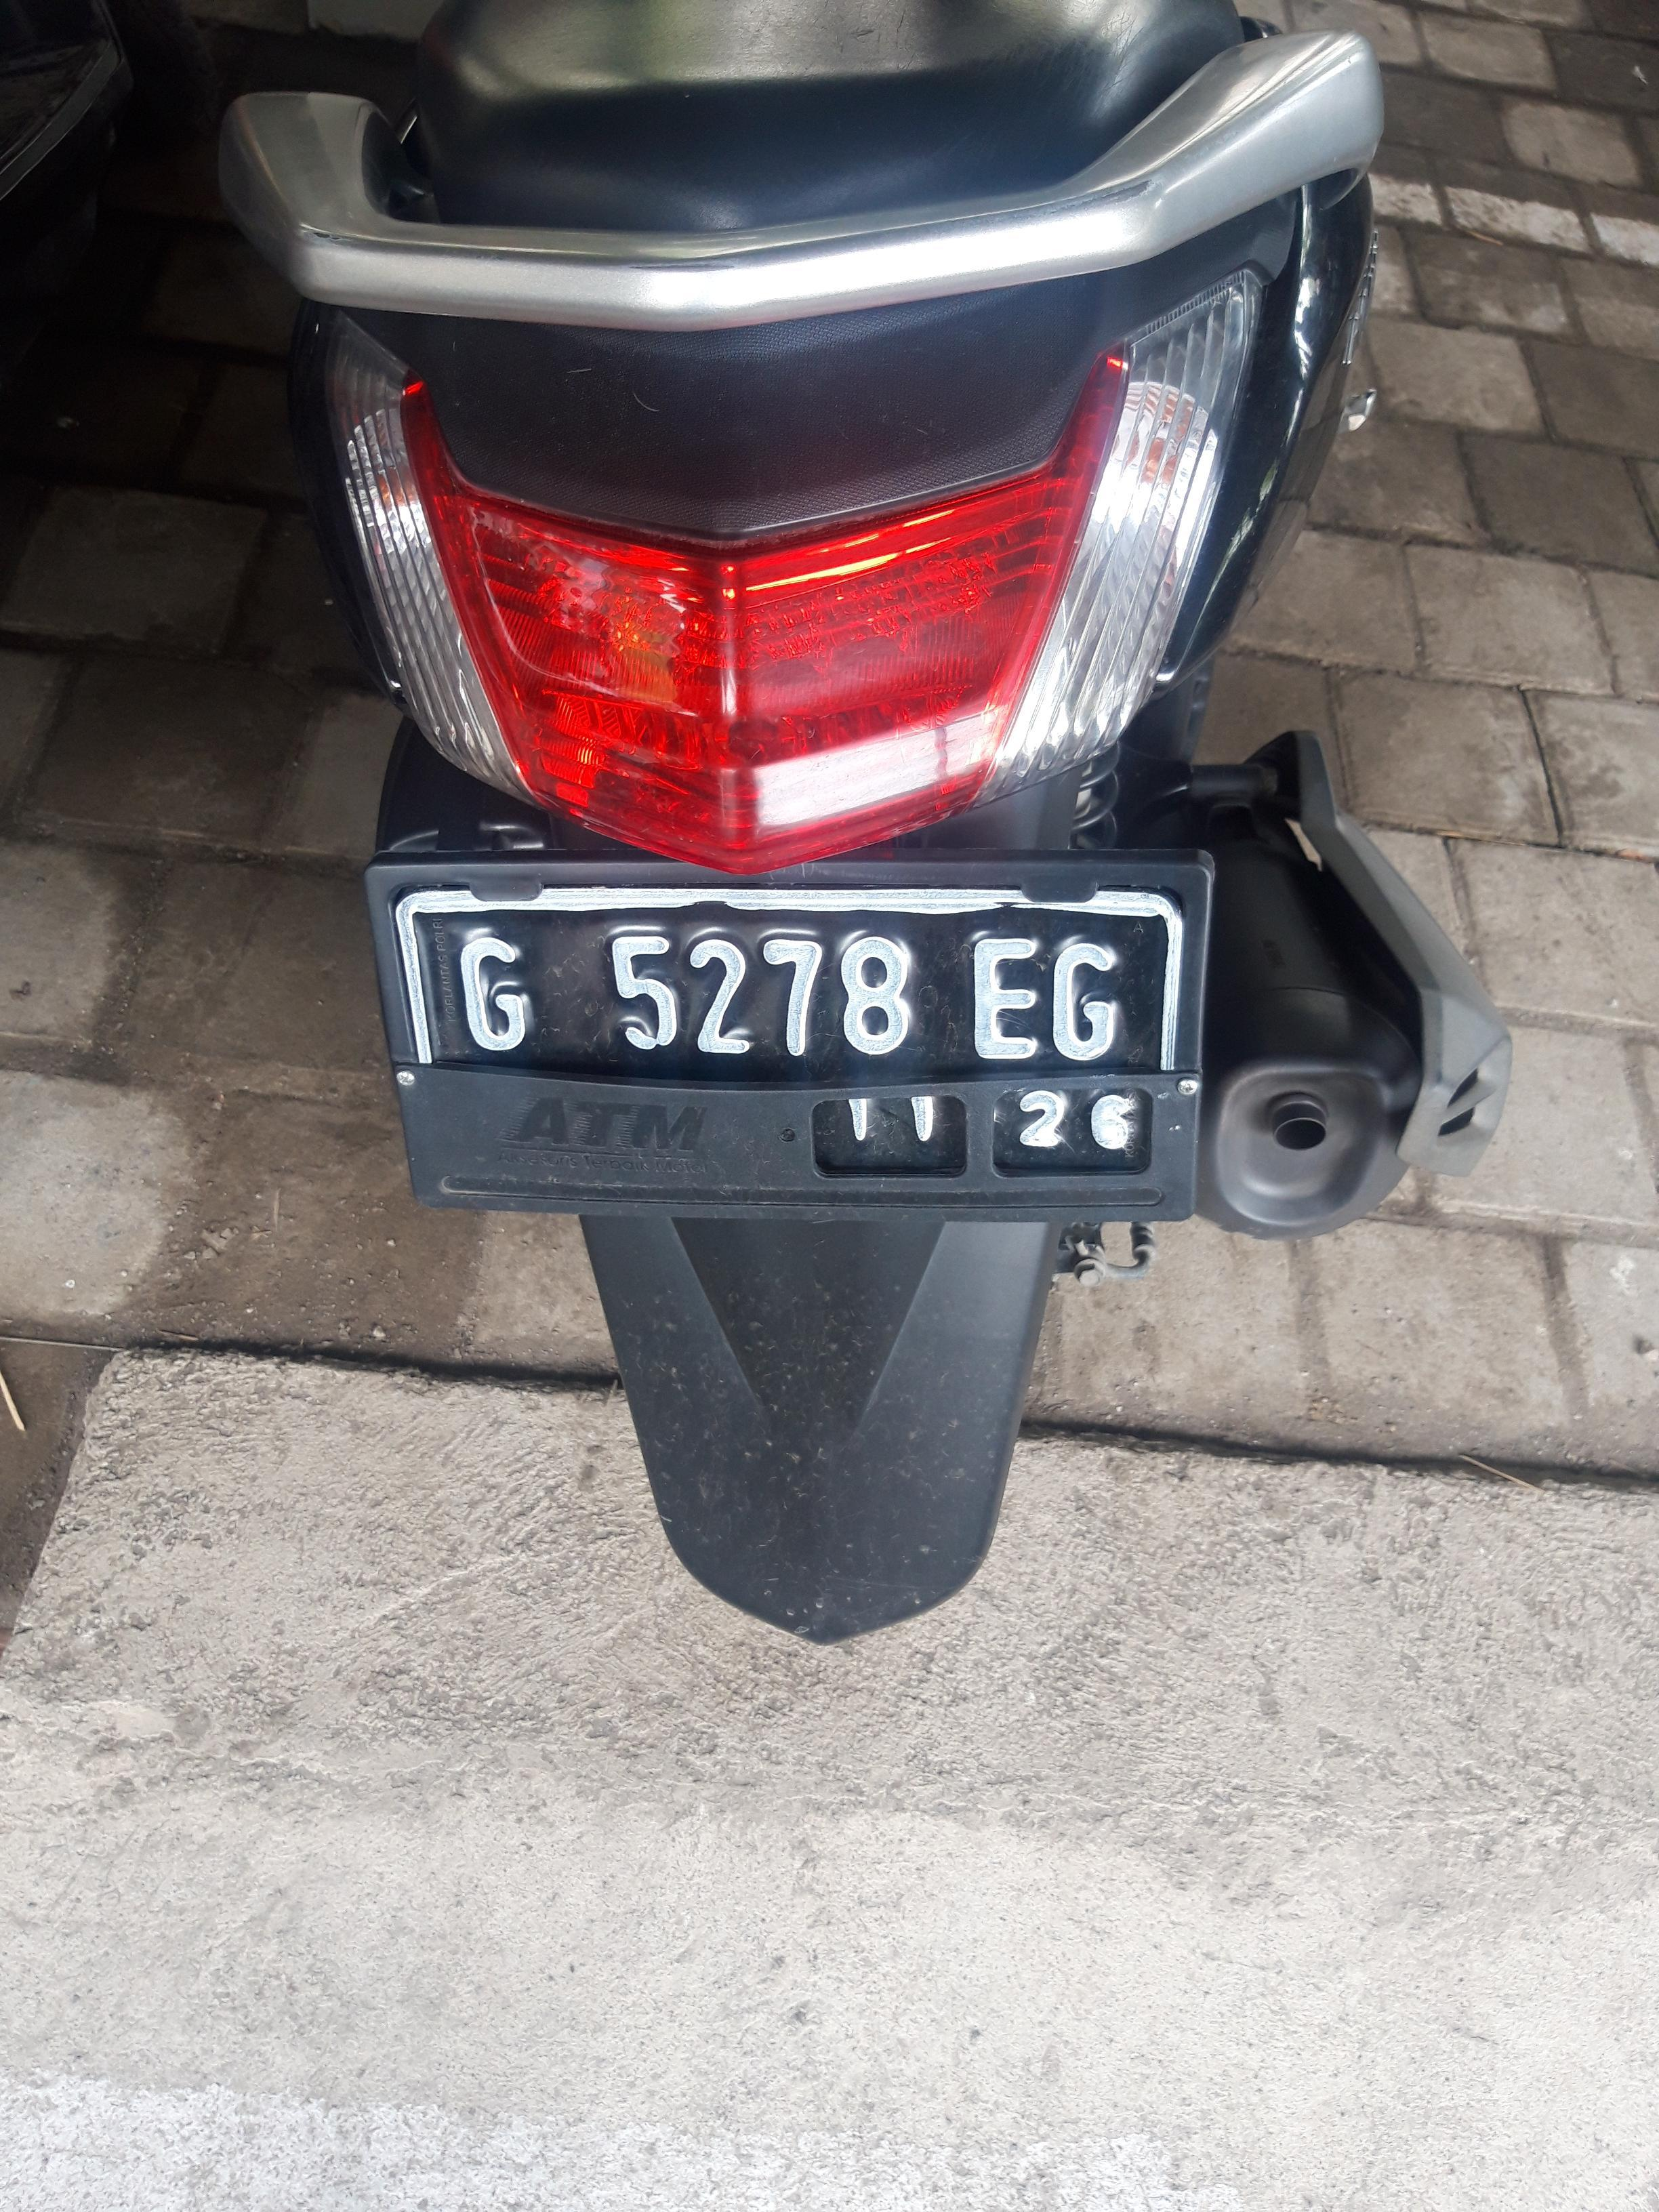clone-license-plate: (377, 872, 1210, 1219)
